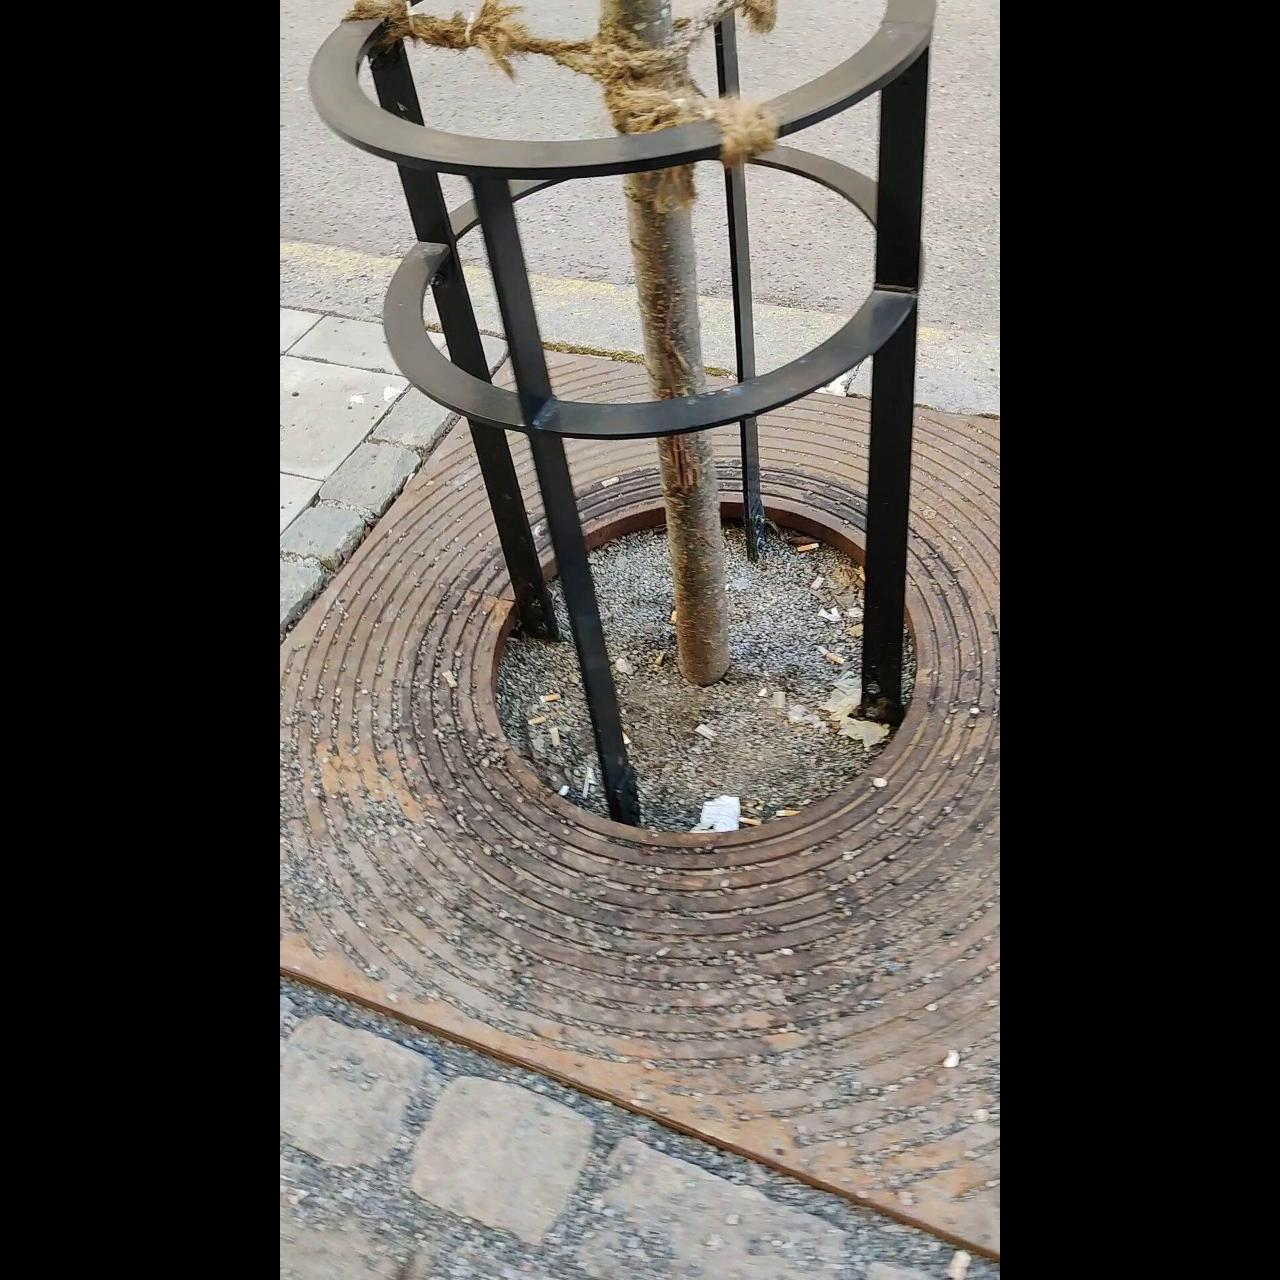cigarettes_butts: (942, 1248, 972, 1278), (738, 812, 764, 828), (826, 648, 846, 666), (772, 807, 806, 817), (538, 692, 562, 706), (526, 714, 550, 728), (439, 672, 457, 688), (798, 542, 820, 554), (401, 473, 413, 491), (668, 609, 678, 627)
others: (691, 721, 721, 741)
